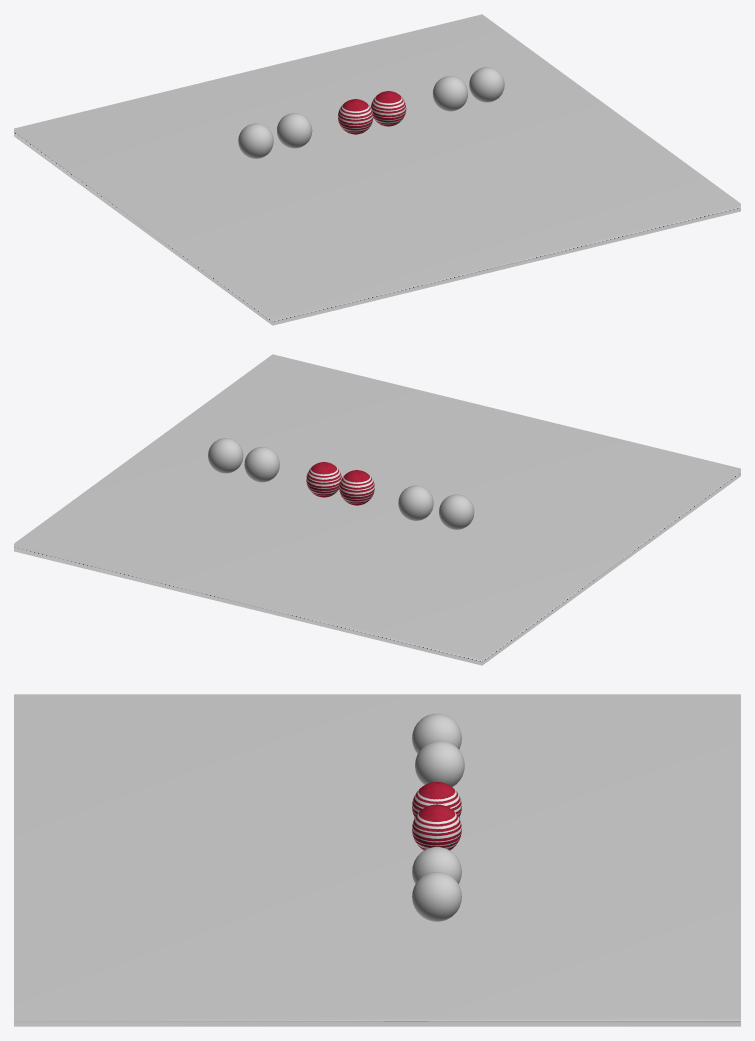
The model's file is PBR.gltf.
3 views of the same model, one above another, from view 1: azimuth 30°, elevation 25°; view 2: azimuth 150°, elevation 25°; view 3: azimuth 270°, elevation 25° (orthographic). The views are drawn at different scales.
Parts seen in each view (by area): view 1: Cube, Sphere.003, Sphere.007, Sphere.005, Sphere.001, Sphere.002, Sphere.004; view 2: Cube, Sphere.002, Sphere.001, Sphere.005, Sphere.003, Sphere.007, Sphere.004; view 3: Cube, Sphere.007, Sphere.004, Sphere.002, Sphere.003, Sphere.005, Sphere.001.
Boxes of the visible parts, x1,y1,x2,y2 form: Cube: (14,14,740,325); Sphere.003: (238,123,273,158); Sphere.007: (469,67,504,102); Sphere.005: (432,76,468,111); Sphere.001: (338,99,373,134); Sphere.002: (277,113,312,148); Sphere.004: (371,91,406,126); Cube: (14,354,740,665); Sphere.002: (398,485,433,520); Sphere.001: (339,470,374,505); Sphere.005: (244,447,279,482); Sphere.003: (439,494,474,529); Sphere.007: (208,438,243,473); Sphere.004: (306,462,341,497); Cube: (14,694,740,1026); Sphere.007: (412,872,461,921); Sphere.004: (412,804,461,850); Sphere.002: (415,740,464,786); Sphere.003: (412,713,461,753); Sphere.005: (412,847,461,883); Sphere.001: (412,782,461,817).
Size of the model in its own units: 30.44 by 3.6 by 29.12.
